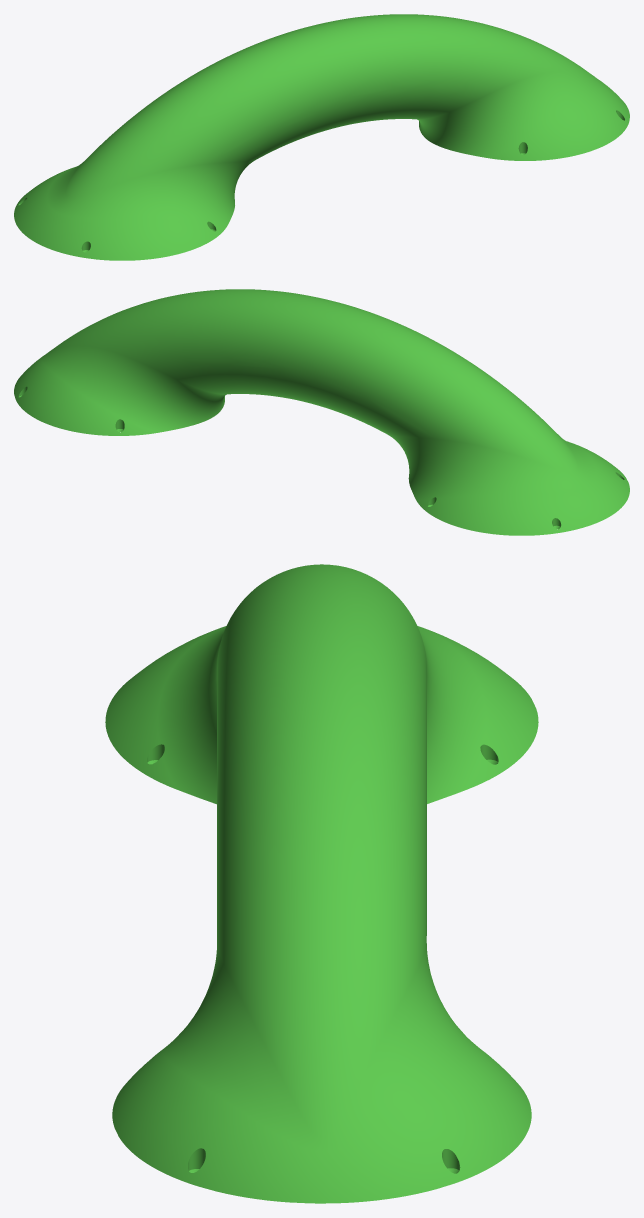
The model's file is hold_phone_small.glb.
3 renders of one model, top to bottom at view 1: azimuth 30°, elevation 25°; view 2: azimuth 150°, elevation 25°; view 3: azimuth 270°, elevation 25°, orthographic. The views are drawn at different scales.
Visible parts, largest first — view 1: Object_2; view 2: Object_2; view 3: Object_2.
Part boxes in pixels (left/top/right/bottom): Object_2: left=14, top=14, right=629, bottom=260; Object_2: left=14, top=289, right=629, bottom=535; Object_2: left=105, top=564, right=538, bottom=1203.
Bounding box in the file's own units: 518 × 115 × 165.
